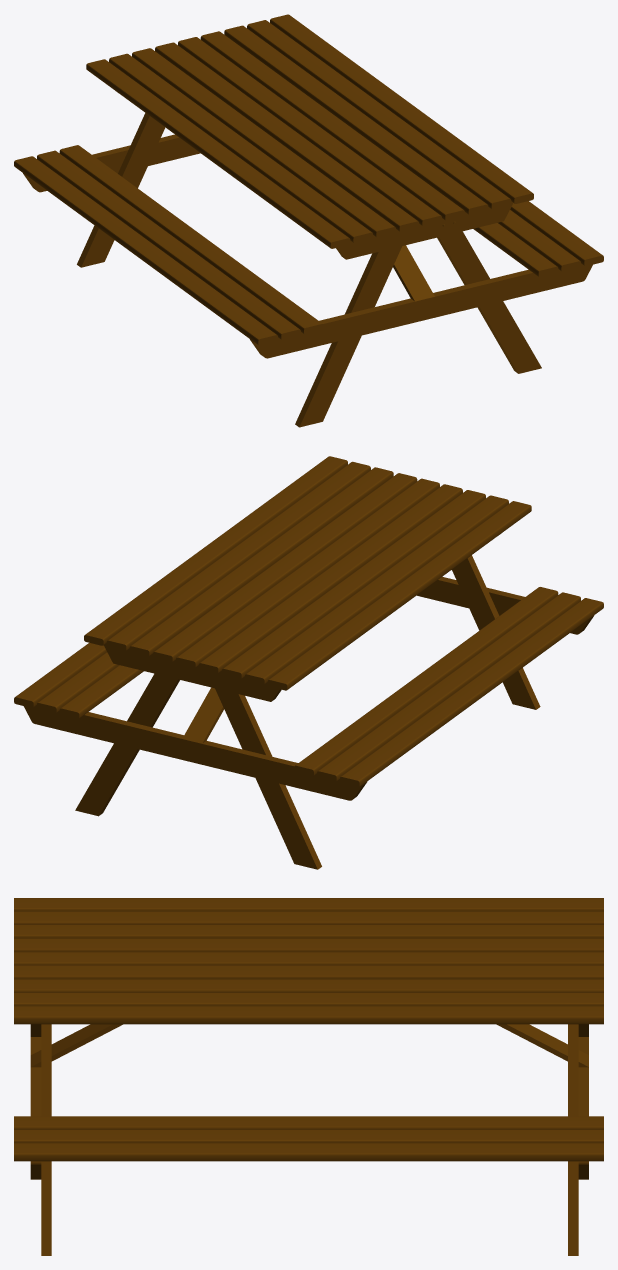
Rendered from Table - Copy.fbx.
The picture shows the model from 3 angles, top to bottom: view 1: azimuth 30°, elevation 25°; view 2: azimuth 150°, elevation 25°; view 3: azimuth 270°, elevation 25°; orthographic projection. The views are drawn at different scales.
Visible parts, largest first — view 1: table_; view 2: table_; view 3: table_.
Boxes of the visible parts, x1,y1,x2,y2 form: table_: (14, 14, 603, 427); table_: (14, 456, 603, 869); table_: (14, 898, 603, 1255).
Size of the model in its own units: 233 by 121 by 285.
